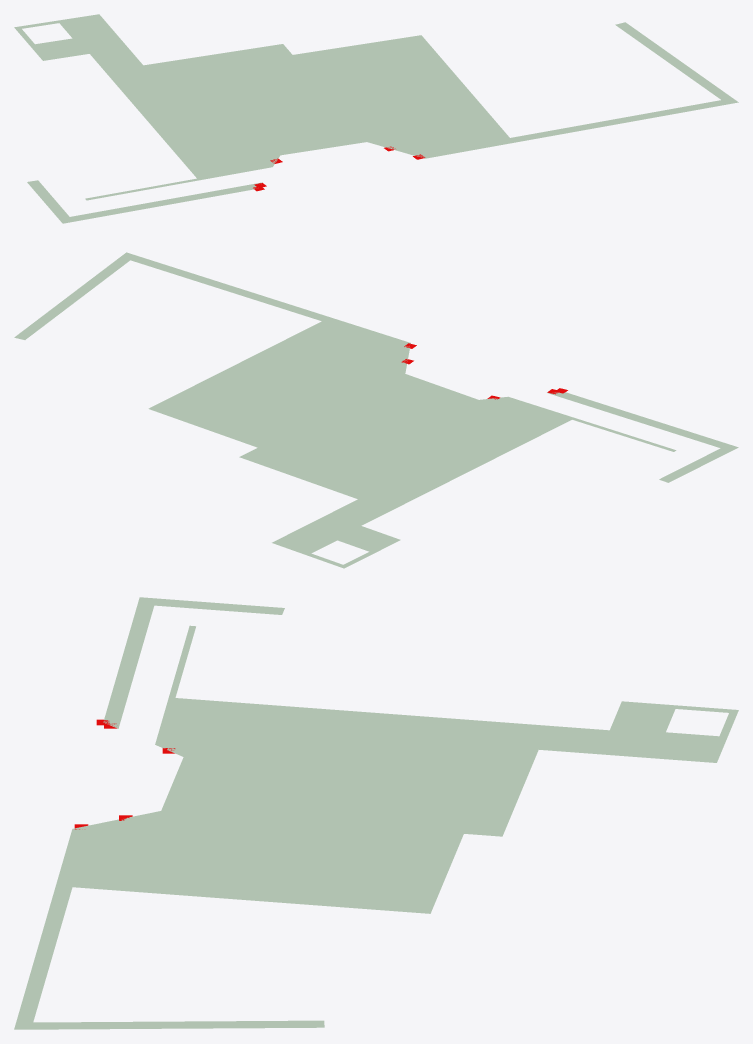
The model's file is floor-487600.glb.
3 renders of one model, top to bottom at view 1: azimuth 30°, elevation 25°; view 2: azimuth 150°, elevation 25°; view 3: azimuth 270°, elevation 25°, orthographic. The views are drawn at different scales.
Visible parts, largest first — view 1: SectionBody_10,655a4c80-5074-47b9-a906-6dae9025e47b, SectionBody_4,f5be9884-1ec4-4bdf-83fe-4a4f57898bca, SectionBody_15,188ced9f-8953-4fa2-9da6-4d38ebbba89a, SectionBody_12,817ea7ed-bc4a-429e-8aee-e4c509cef56e, SectionBody_13,4a787c18-0a65-4c3d-a247-b4a747b72b2c, SectionBody_7,28b44917-900a-45e6-ad66-e7244a49c854, SectionBody_9,67384a9e-0818-4f26-b960-20a7834700e3; view 2: SectionBody_10,655a4c80-5074-47b9-a906-6dae9025e47b, SectionBody_4,f5be9884-1ec4-4bdf-83fe-4a4f57898bca, SectionBody_15,188ced9f-8953-4fa2-9da6-4d38ebbba89a, SectionBody_12,817ea7ed-bc4a-429e-8aee-e4c509cef56e, SectionBody_13,4a787c18-0a65-4c3d-a247-b4a747b72b2c; view 3: SectionBody_10,655a4c80-5074-47b9-a906-6dae9025e47b, SectionBody_4,f5be9884-1ec4-4bdf-83fe-4a4f57898bca, SectionBody_12,817ea7ed-bc4a-429e-8aee-e4c509cef56e, SectionBody_15,188ced9f-8953-4fa2-9da6-4d38ebbba89a, SectionBody_13,4a787c18-0a65-4c3d-a247-b4a747b72b2c, SectionBody_7,28b44917-900a-45e6-ad66-e7244a49c854.
Boxes of the visible parts, box(x1,y1,x2,y2) form: SectionBody_10,655a4c80-5074-47b9-a906-6dae9025e47b: box(14, 14, 509, 175); SectionBody_4,f5be9884-1ec4-4bdf-83fe-4a4f57898bca: box(413, 98, 738, 158); SectionBody_15,188ced9f-8953-4fa2-9da6-4d38ebbba89a: box(59, 182, 262, 223); SectionBody_12,817ea7ed-bc4a-429e-8aee-e4c509cef56e: box(615, 22, 731, 99); SectionBody_13,4a787c18-0a65-4c3d-a247-b4a747b72b2c: box(27, 180, 69, 218); SectionBody_7,28b44917-900a-45e6-ad66-e7244a49c854: box(195, 163, 262, 180); SectionBody_9,67384a9e-0818-4f26-b960-20a7834700e3: box(267, 138, 380, 157); SectionBody_10,655a4c80-5074-47b9-a906-6dae9025e47b: box(148, 321, 566, 568); SectionBody_4,f5be9884-1ec4-4bdf-83fe-4a4f57898bca: box(121, 252, 410, 349); SectionBody_15,188ced9f-8953-4fa2-9da6-4d38ebbba89a: box(547, 392, 738, 451); SectionBody_12,817ea7ed-bc4a-429e-8aee-e4c509cef56e: box(14, 257, 129, 339); SectionBody_13,4a787c18-0a65-4c3d-a247-b4a747b72b2c: box(659, 448, 730, 482); SectionBody_10,655a4c80-5074-47b9-a906-6dae9025e47b: box(72, 698, 738, 913); SectionBody_4,f5be9884-1ec4-4bdf-83fe-4a4f57898bca: box(14, 825, 90, 1029); SectionBody_12,817ea7ed-bc4a-429e-8aee-e4c509cef56e: box(31, 1020, 324, 1029); SectionBody_15,188ced9f-8953-4fa2-9da6-4d38ebbba89a: box(103, 597, 156, 728); SectionBody_13,4a787c18-0a65-4c3d-a247-b4a747b72b2c: box(154, 598, 284, 614); SectionBody_7,28b44917-900a-45e6-ad66-e7244a49c854: box(157, 697, 185, 741).
Size of the model in its own units: 30107 by 0 by 21325.
